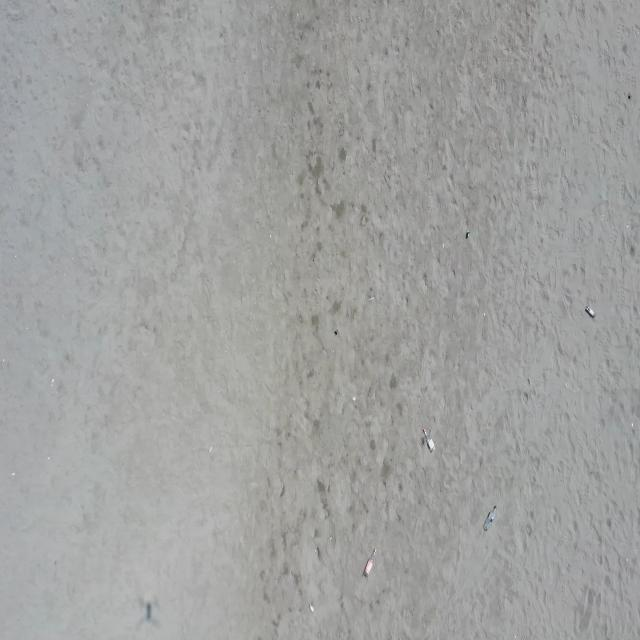glass: (363, 549, 377, 577), (422, 427, 436, 453), (484, 505, 498, 530), (587, 306, 596, 317), (466, 230, 471, 238), (310, 604, 314, 612)
